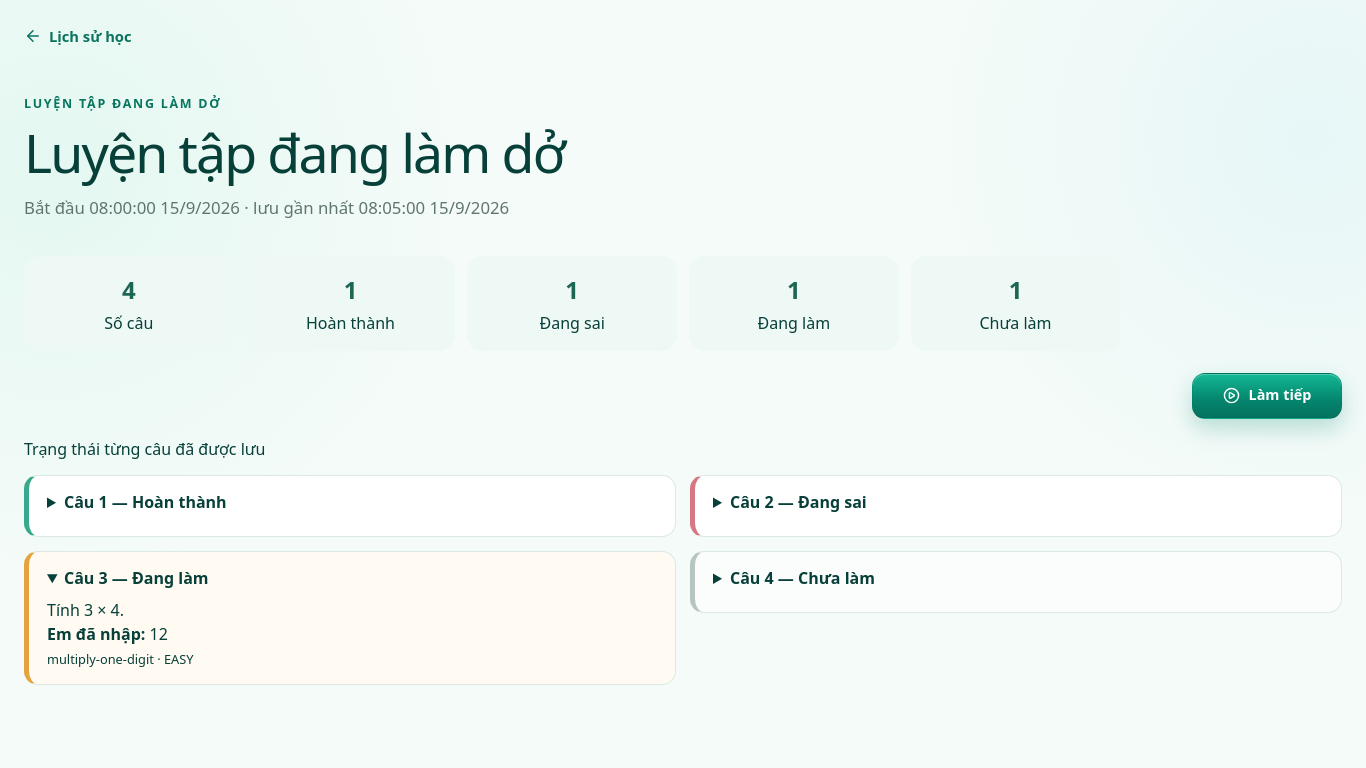
Test case: unfinished session History regression › renders saved unfinished Practice states from History without the live session API
expect the heading "Câu 2 — Đang sai" is shown: met, box [730,491,867,513]
expect the heading "Câu 3 — Đang làm" is shown: met, box [64,567,208,589]
Click the heading "Câu 1 — Hoàn thành" at point(145, 502), box [64,491,226,513]
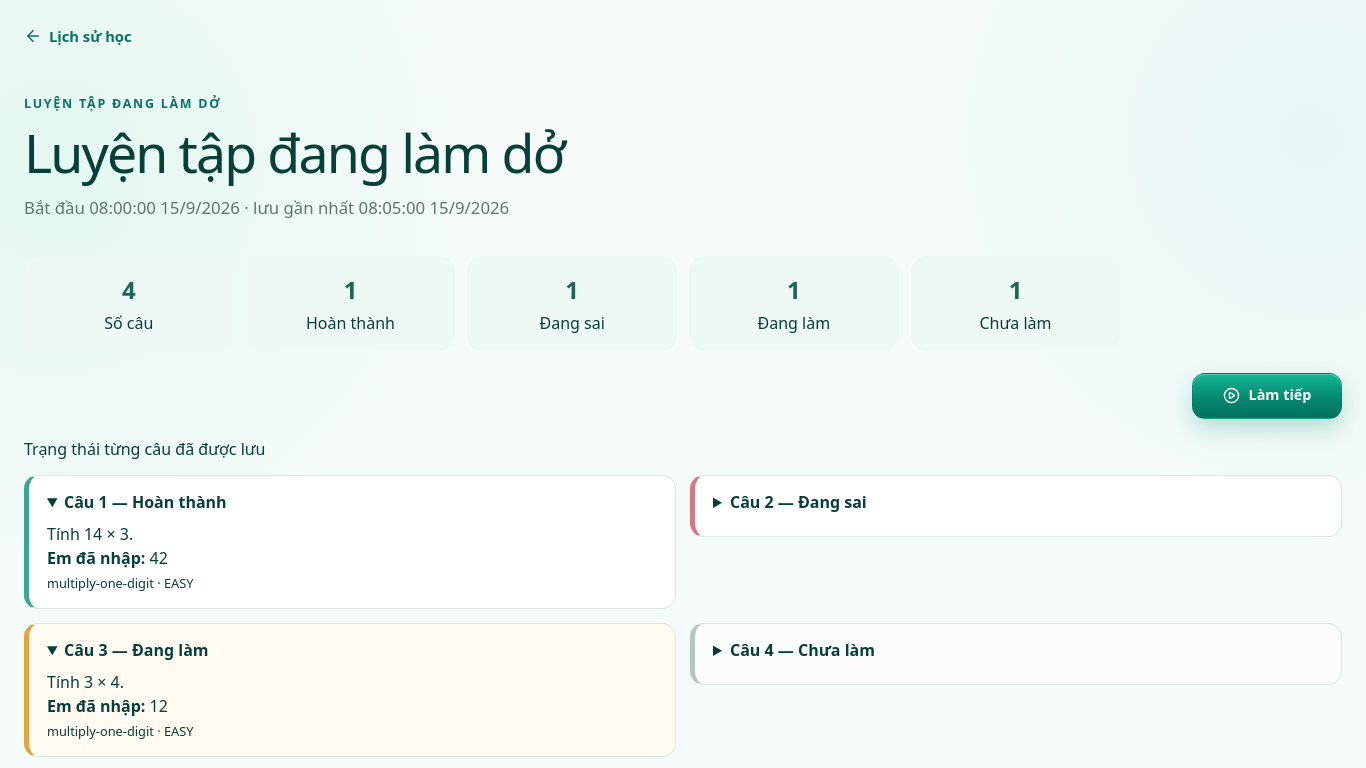
expect the text "Câu 2 — Đang sai" is shown: met, box [690,475,1342,537]
expect the text "Tính 14 × 3." is shown: met, box [47,523,133,545]
Click the heading "Câu 2 — Đang sai" at point(798, 502), box [730,491,867,513]
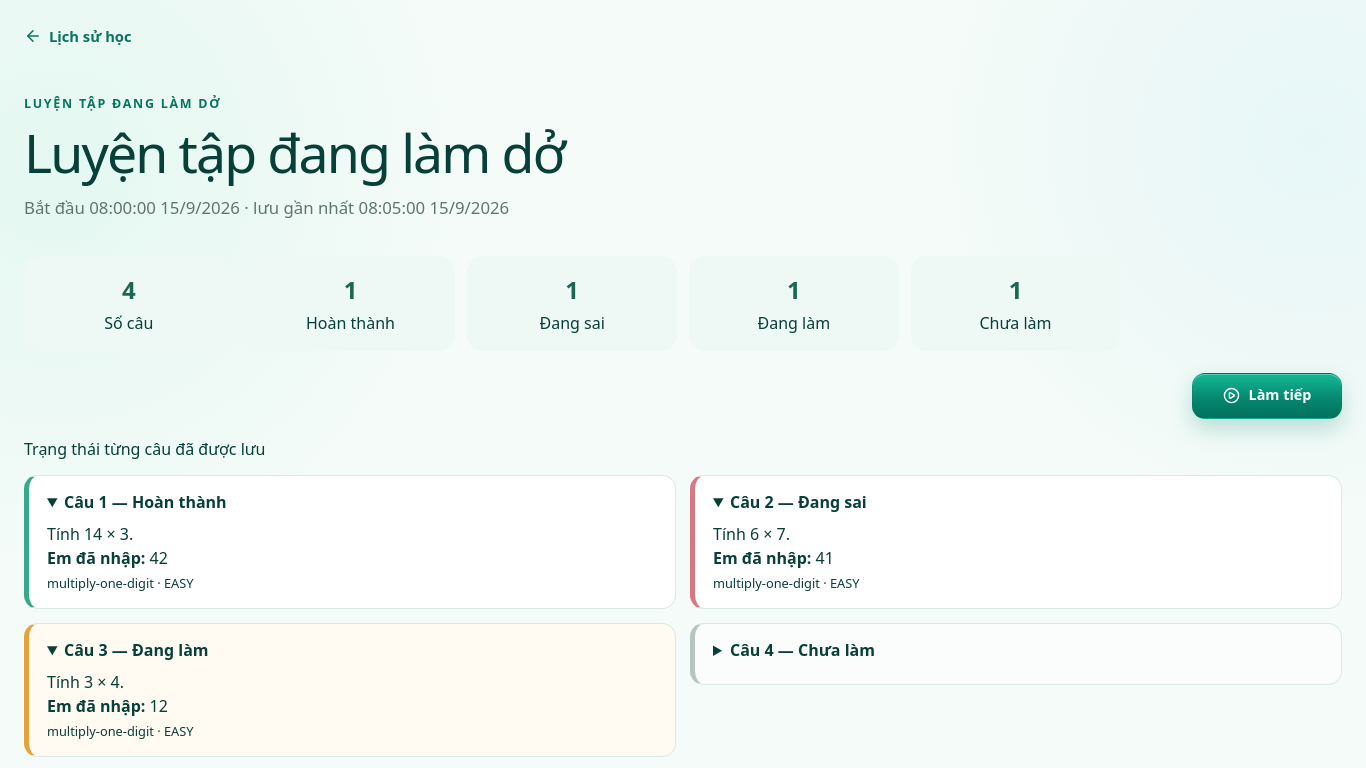
expect the text "Tính 3 × 4." is shown: met, box [47,671,124,693]
expect the text "Tính 6 × 7." is shown: met, box [713,523,790,545]
expect the text "41" is shown: met, box [816,547,834,569]
